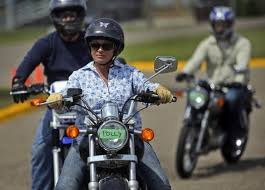helmet: (79, 17, 125, 65)
